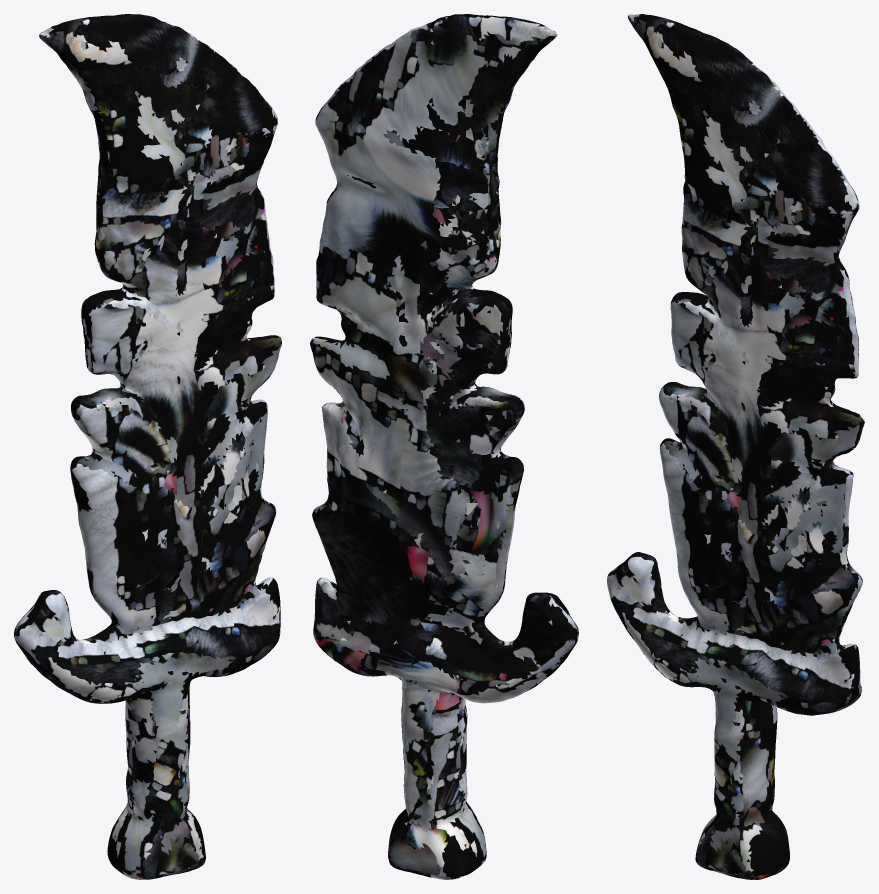
Rendered from Doom_Sword.gltf.
The picture shows the model from 3 angles, left to right: view 1: azimuth 30°, elevation 25°; view 2: azimuth 150°, elevation 25°; view 3: azimuth 330°, elevation 25°; orthographic projection. The views are drawn at different scales.
Visible parts, largest first — view 1: high_poly; view 2: high_poly; view 3: high_poly.
Boxes of the visible parts, x1,y1,x2,y2 form: high_poly: (14,14,281,879); high_poly: (310,14,578,879); high_poly: (607,14,864,879).
Size of the model in its own units: 0.323 by 1 by 0.0862.
1 material, 1 textured.
